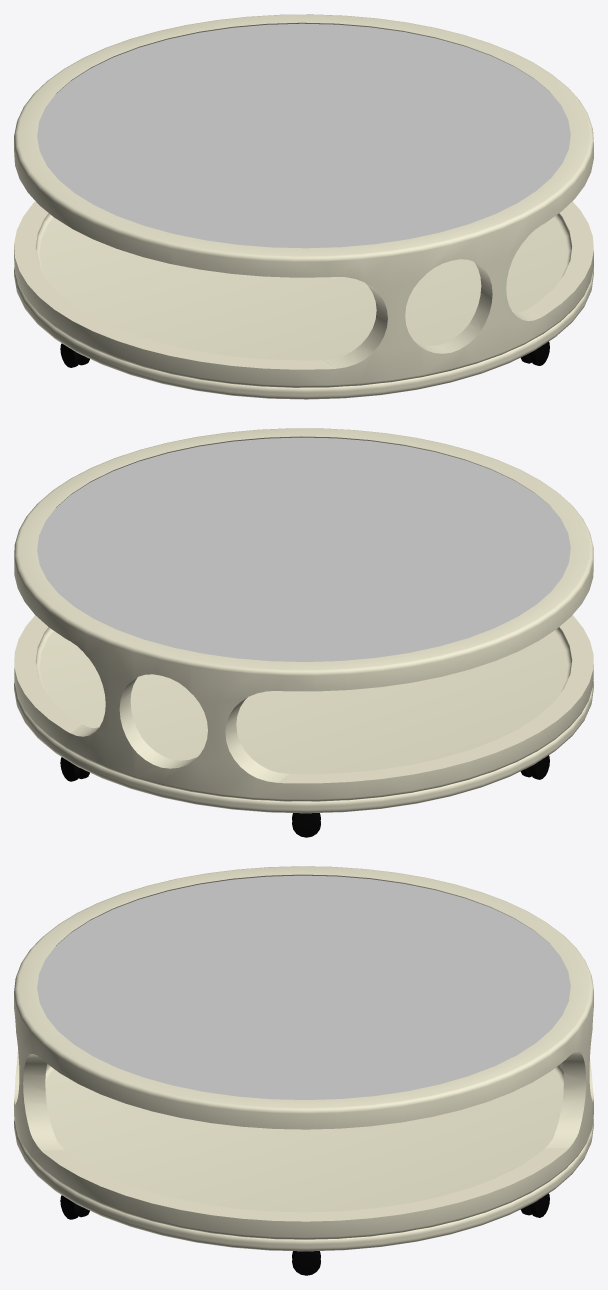
Rendered from CoffeeTable.fbx.
The picture shows the model from 3 angles, top to bottom: view 1: azimuth 30°, elevation 25°; view 2: azimuth 150°, elevation 25°; view 3: azimuth 270°, elevation 25°; orthographic projection.
Parts seen in each view (by area): view 1: Body, Glass_top_3; view 2: Body, Glass_top_3, Wheel_4; view 3: Body, Glass_top_3, Wheel_3.
Boxes of the visible parts, x1,y1,x2,y2 form: Body: (14,14,593,399); Glass_top_3: (37,23,570,248); Body: (14,428,593,813); Glass_top_3: (37,437,570,661); Wheel_4: (292,813,320,837); Body: (14,866,593,1251); Glass_top_3: (37,875,570,1099); Wheel_3: (292,1251,320,1275).
Size of the model in its own units: 7.49 by 2.46 by 7.49.
